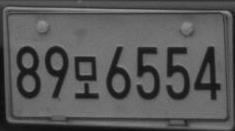4: (192, 45, 221, 100)
5: (165, 46, 191, 100), (136, 46, 160, 100)
6: (105, 46, 131, 99)
8: (15, 45, 41, 99)
9: (43, 45, 69, 97)
모: (73, 55, 99, 99)
